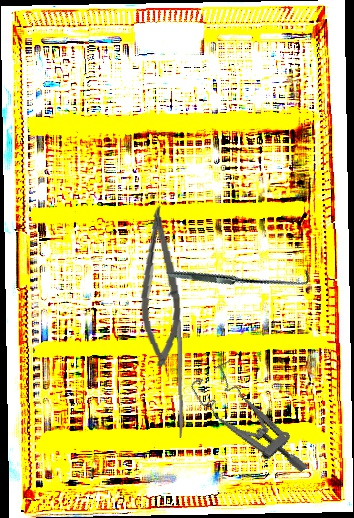Hook Surgical: (165, 201, 314, 348)
Micro Scissor: (131, 203, 186, 369)
Scalpel Handle: (175, 293, 185, 439)
Speculum: (188, 353, 310, 498)
